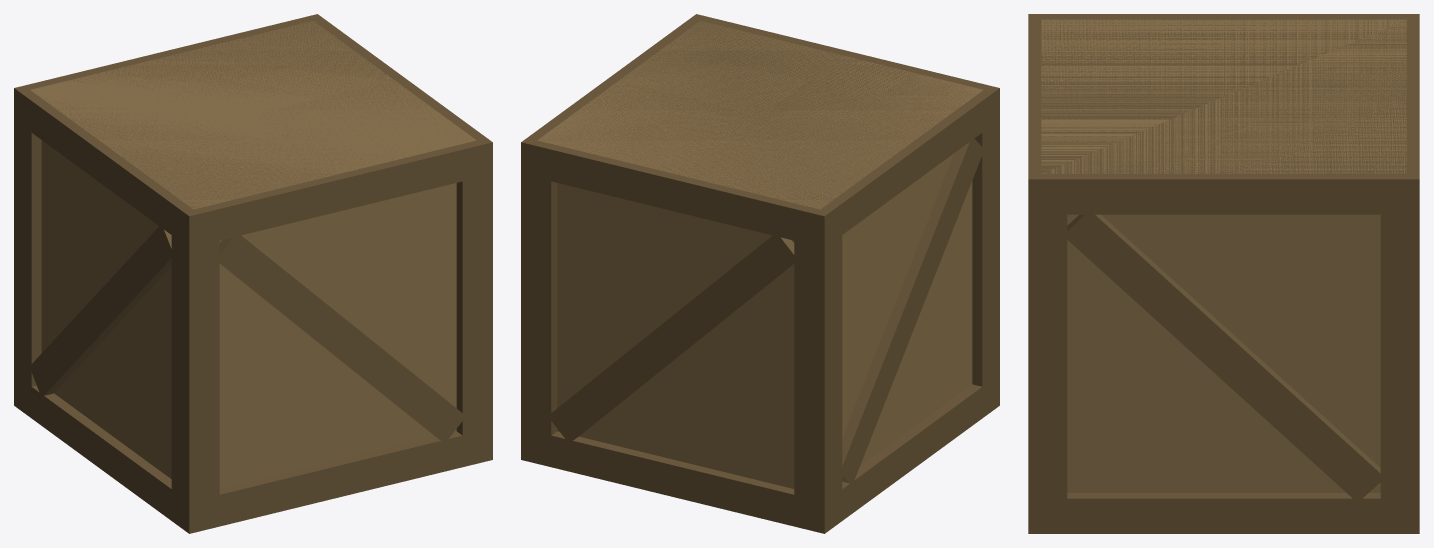
The model's file is caisse_bois.glb.
3 renders of one model, left to right at view 1: azimuth 30°, elevation 25°; view 2: azimuth 150°, elevation 25°; view 3: azimuth 270°, elevation 25°, orthographic. The views are drawn at different scales.
Parts seen in each view (by area): view 1: core, rims, posts, brace_y, brace_x; view 2: core, rims, posts, brace_y, brace_x; view 3: core, rims, posts, brace_x.
Boxes of the visible parts, x1,y1,x2,y2 form: core: (30,21,476,488); rims: (14,14,492,533); posts: (14,120,492,501); brace_y: (217,233,465,440); brace_x: (30,226,173,397); core: (537,21,983,488); rims: (521,14,999,533); posts: (521,120,999,501); brace_y: (548,234,797,441); brace_x: (840,138,984,485); core: (1041,19,1406,492); rims: (1028,14,1419,533); posts: (1028,214,1419,498); brace_x: (1063,211,1383,500).
Size of the model in its own units: 0.6 by 0.6 by 0.6.
2 materials, 2 textured.
